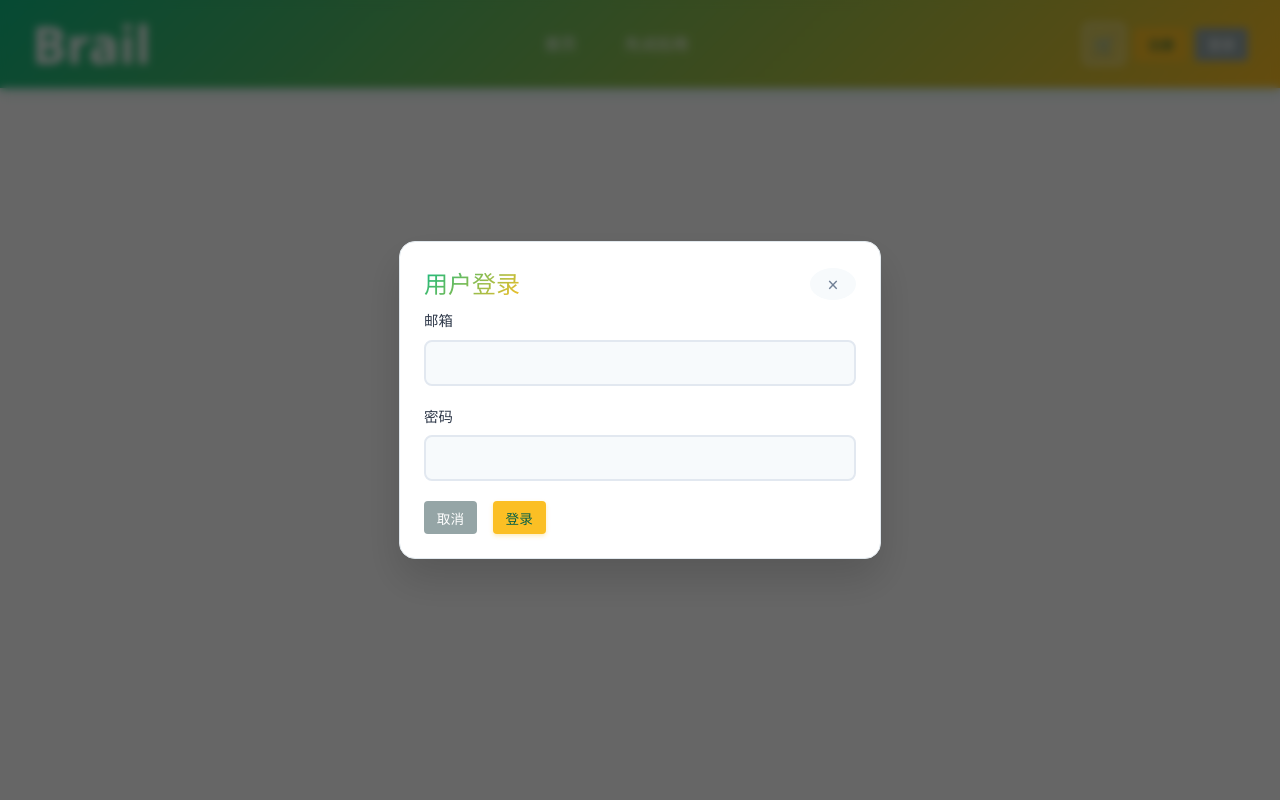
Test: Header.vue 注册功能单元测试 › 登录功能测试 › 登录成功时应该更新用户状态
The width and height of the screenshot is (1280, 800).
In the field with id "loginEmail": x=640, y=363 [424, 340, 856, 386], type "test@example.com"
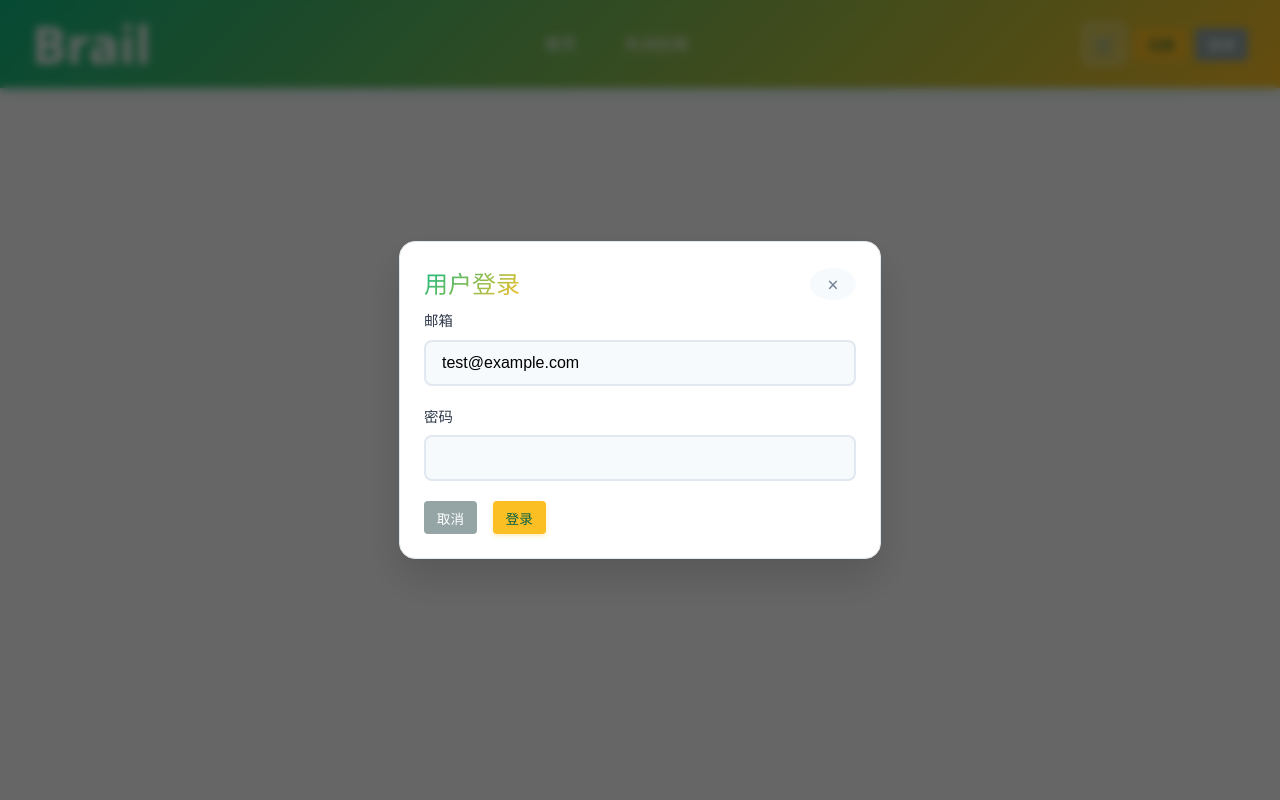
In the password field with id "loginPassword": x=640, y=458 [424, 435, 856, 481], type "password123"
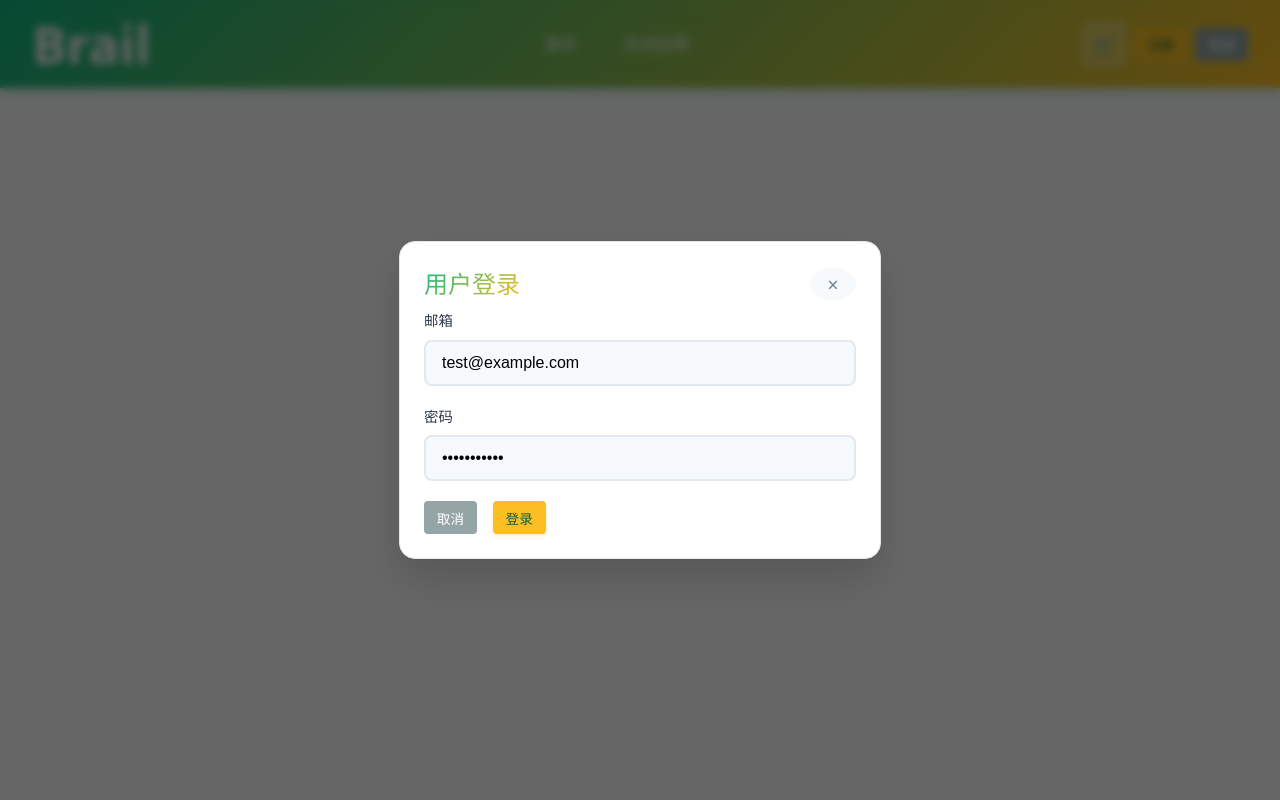
Submit the form with class "login-form", box [400, 310, 880, 558]
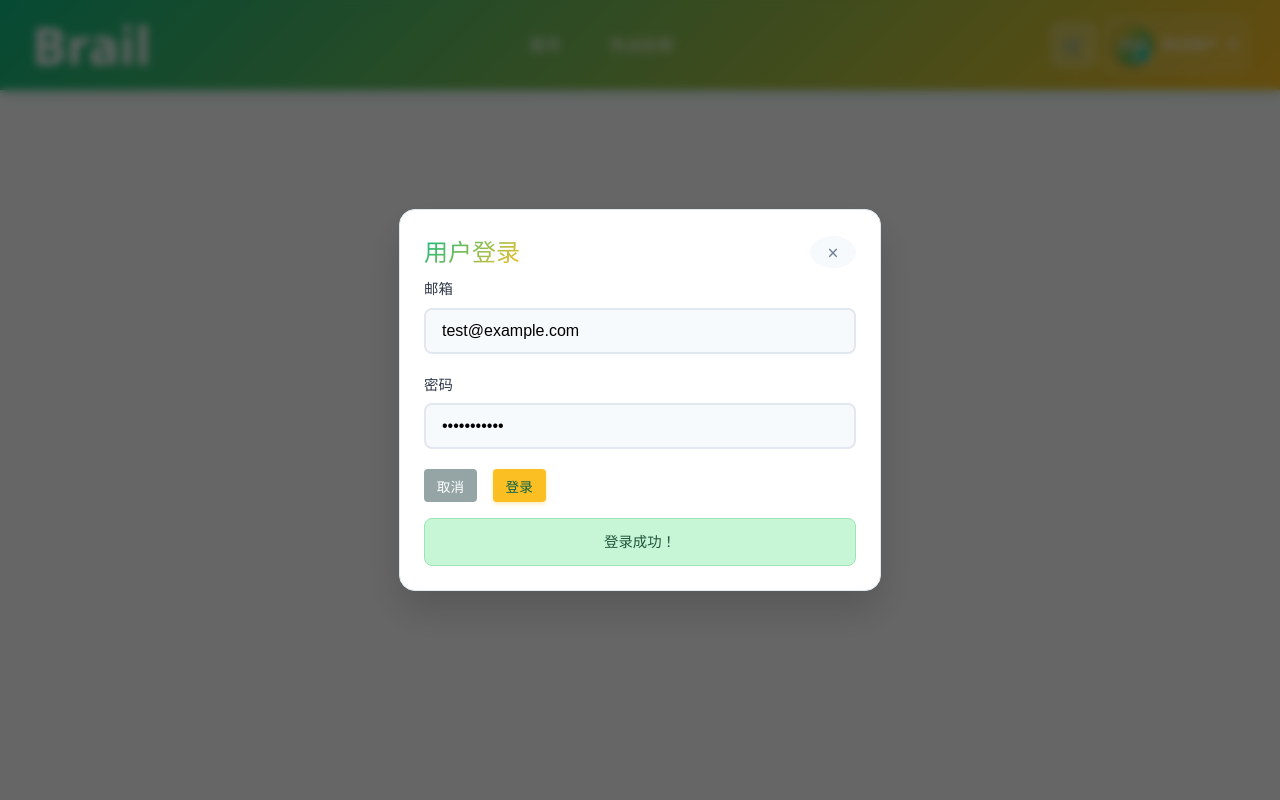
Now the text "测试用户" is shown, box [1161, 34, 1218, 56]
Now the element with class "user-dropdown" is shown, box [1104, 16, 1248, 74]
Now the text with class "user-name" reads "测试用户", box [1161, 35, 1218, 54]
